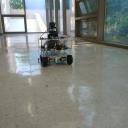cart: (38, 38, 74, 67)
